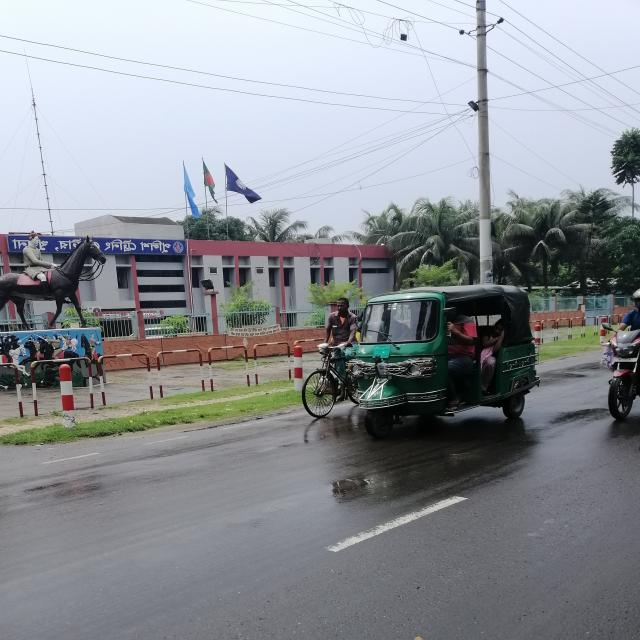CNG: (321, 273, 553, 490)
Motorbike: (562, 314, 640, 444)
